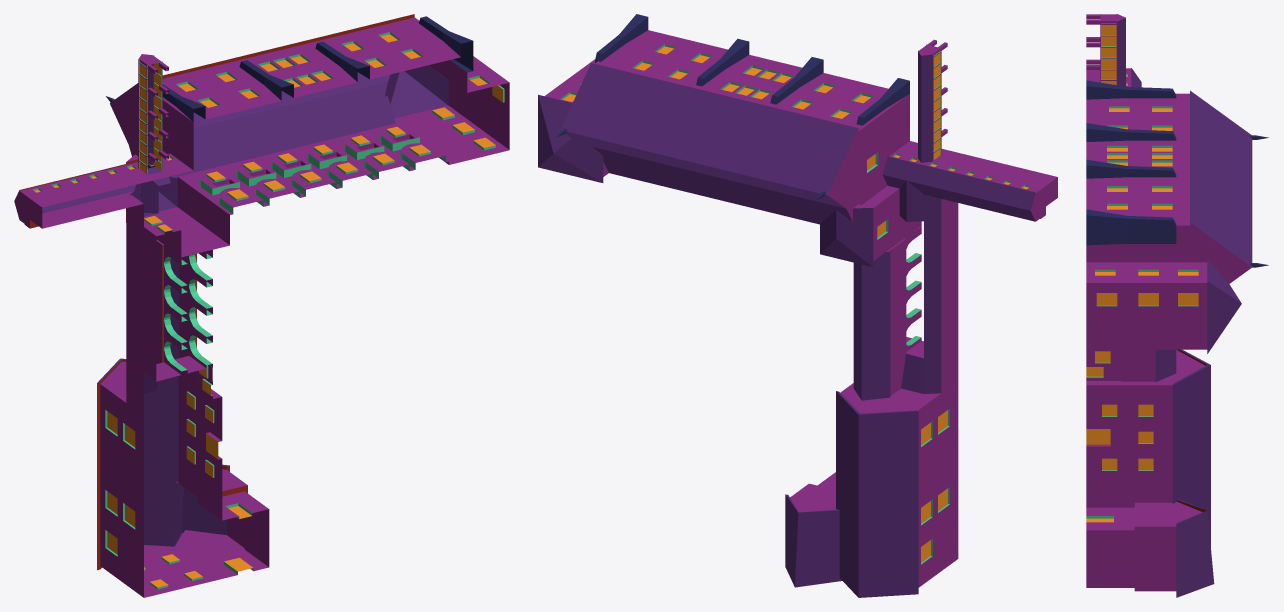
The model's file is Zamek Tier 2.fbx.
3 views of the same model, side by side, from view 1: azimuth 30°, elevation 25°; view 2: azimuth 150°, elevation 25°; view 3: azimuth 270°, elevation 25° (orthographic). The views are drawn at different scales.
Visible parts, largest first — view 1: Zamek_zamek_bez_bramy; view 2: Zamek_zamek_bez_bramy; view 3: Zamek_zamek_bez_bramy.
Boxes of the visible parts, x1=… form: Zamek_zamek_bez_bramy: x1=14, y1=14, x2=509, y2=597; Zamek_zamek_bez_bramy: x1=538, y1=14, x2=1057, y2=597; Zamek_zamek_bez_bramy: x1=1086, y1=14, x2=1268, y2=597.
Size of the model in its own units: 4.11 by 4.43 by 1.4.
